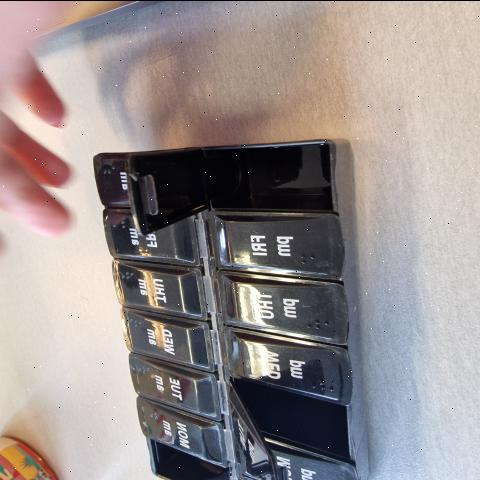Open: (132, 142, 332, 232), (232, 380, 351, 462), (146, 439, 234, 480)
